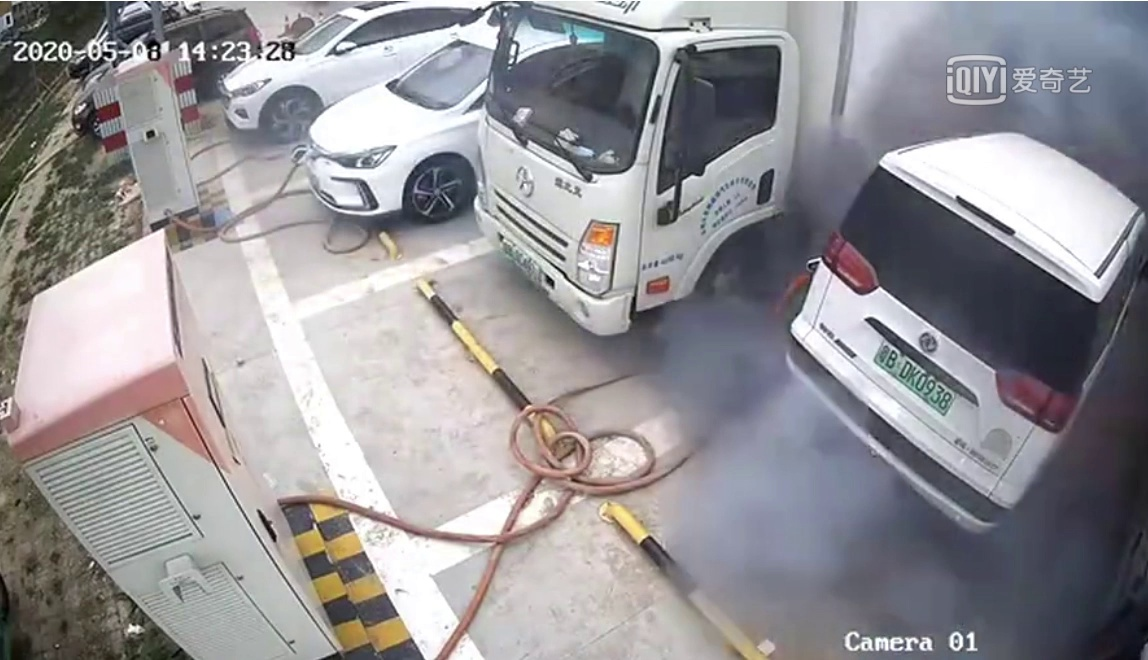smoke: (663, 306, 893, 625)
